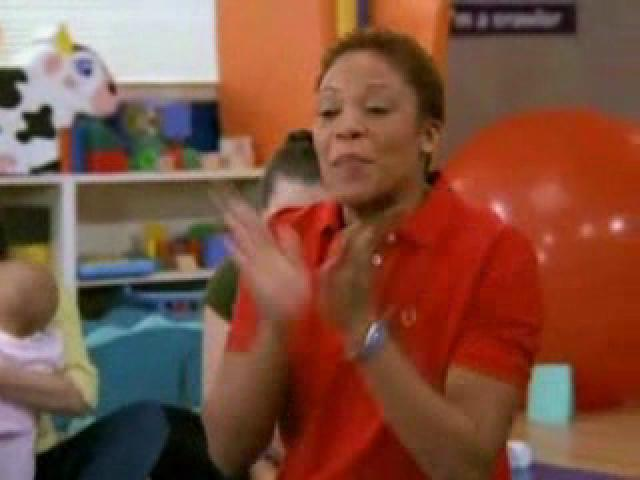F: (196, 37, 484, 480)
